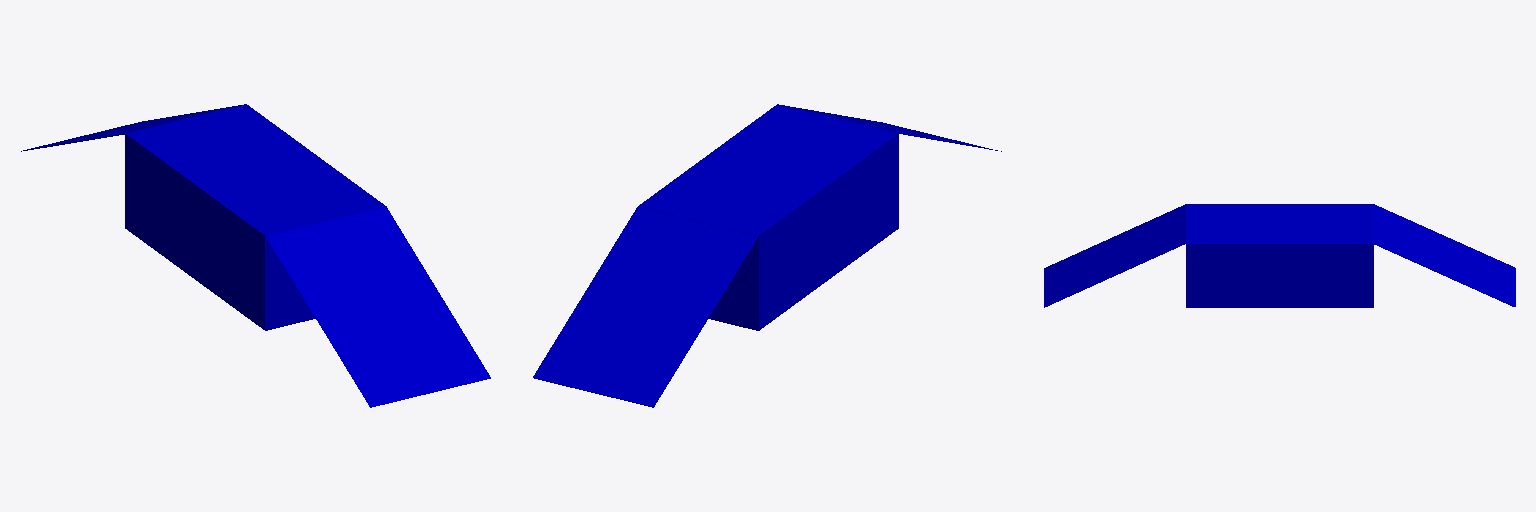
The robot description file, URDF, robot "ramp":
<?xml version="1.0"?>

<robot name="ramp">
    <material name="blue">
        <color rgba="0 0 0.8 1" />
    </material>
    

    <link name="ramp1">

        <!-- <inertial>
            <origin rpy="0.465 0 0" xyz="0 6.5 0.75" />
            <mass value="10000.0" />
            <inertia ixx="1.0" ixy="0.0" ixz="0.0"
            iyy="1.0" iyz="0.0" izz="1.0" />

        </inertial> -->
        <visual>        
            <origin rpy="0.463 0 0" xyz="0 6.5 0.75" />
            <geometry>
                <box size="2 3.36 0.0001" />
            </geometry>
            <material name="blue"/>
        </visual>

        <collision>
            <origin rpy="0.463 0 0" xyz="0 6.5 0.75" />
            <geometry>
             <box size="2 3.35 0.001" />
            </geometry>
        </collision>

    </link>

    

    <link name="box">

        <!-- <inertial>
            <origin rpy="0 0 0" xyz="0 10 0.75" />
            <mass value="1.0" />
            <inertia ixx="1.0" ixy="0.0" ixz="0.0"
            iyy="0.0" iyz="0.0" izz="1.0" />

        </inertial> -->

        <visual>        
            <origin rpy="0 0 0" xyz="0 10 0.75" />
            <geometry>
                <box size="2 4 1.5" />
            </geometry>
            <material name="blue"/>
        </visual>

        <collision>
            <origin rpy="0 0 0" xyz="0 10 0.75" />
            <geometry>
             <box size="2 4 1.5" />
            </geometry>
        </collision>

    </link>

    <joint name="ramp_to_box" type="fixed">
        <parent link="ramp1" />
        <child link="box" />
        <dynamics damping="0.0" friction="0.00001" />
        <origin xyz="0 0 0" />                
    </joint>

    <link name="ramp2">

        <inertial>
            <origin rpy="-0.46 0 0" xyz="0 13.5 0.75" />
            <mass value="10000.0" />
            <inertia ixx="1.0" ixy="0.0" ixz="0.0"
            iyy="1.0" iyz="0.0" izz="1.0" />

        </inertial>
        <visual>        
            <origin rpy="-0.46 0 0" xyz="0 13.5 0.75" />
            <geometry>
                <box size="2 3.35 0.01" />
            </geometry>
            <material name="blue"/>
        </visual>

        <collision>
            <origin rpy="-0.46 0 0" xyz="0 13.5 0.75" />
            <geometry>
             <box size="2 3.35 0.01" />
            </geometry>
        </collision>

    </link>

    <joint name="box_to_ramp" type="fixed">
        <parent link="box" />
        <child link="ramp2" />
        <dynamics damping="0.0" friction="0.00001" />
        <origin xyz="0 0 0" />                
    </joint>




</robot>

--- Facts derived from the render (not from the file) ---
The picture shows the robot from 3 angles, left to right: view 1: azimuth 30°, elevation 25°; view 2: azimuth 150°, elevation 25°; view 3: azimuth 270°, elevation 25°; orthographic projection.
Model ramp with 3 links and 2 joints (2 fixed), rooted at ramp1, posed all joints at 0.
Links seen in each view (by area): view 1: box, ramp1, ramp2; view 2: box, ramp2, ramp1; view 3: box, ramp2, ramp1.
Link boxes in pixels (bbox=[...]): box: bbox=[125, 104, 386, 330]; ramp1: bbox=[266, 207, 490, 407]; ramp2: bbox=[21, 104, 244, 151]; box: bbox=[638, 104, 898, 330]; ramp2: bbox=[533, 207, 758, 407]; ramp1: bbox=[783, 105, 1001, 151]; box: bbox=[1186, 204, 1373, 307]; ramp2: bbox=[1374, 204, 1515, 306]; ramp1: bbox=[1044, 204, 1185, 307].
Size in the robot's own frame: 2 by 10.01 by 1.5 metres.
Geometry: primitives only (box / cylinder / sphere), no mesh files.